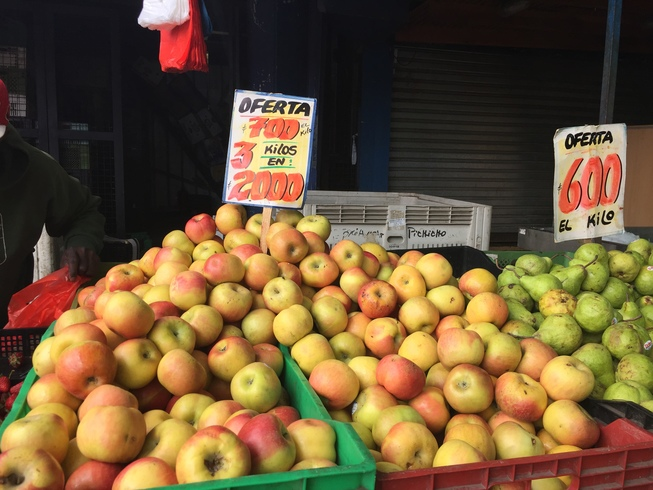precio: (217, 83, 325, 220), (547, 118, 640, 251)
